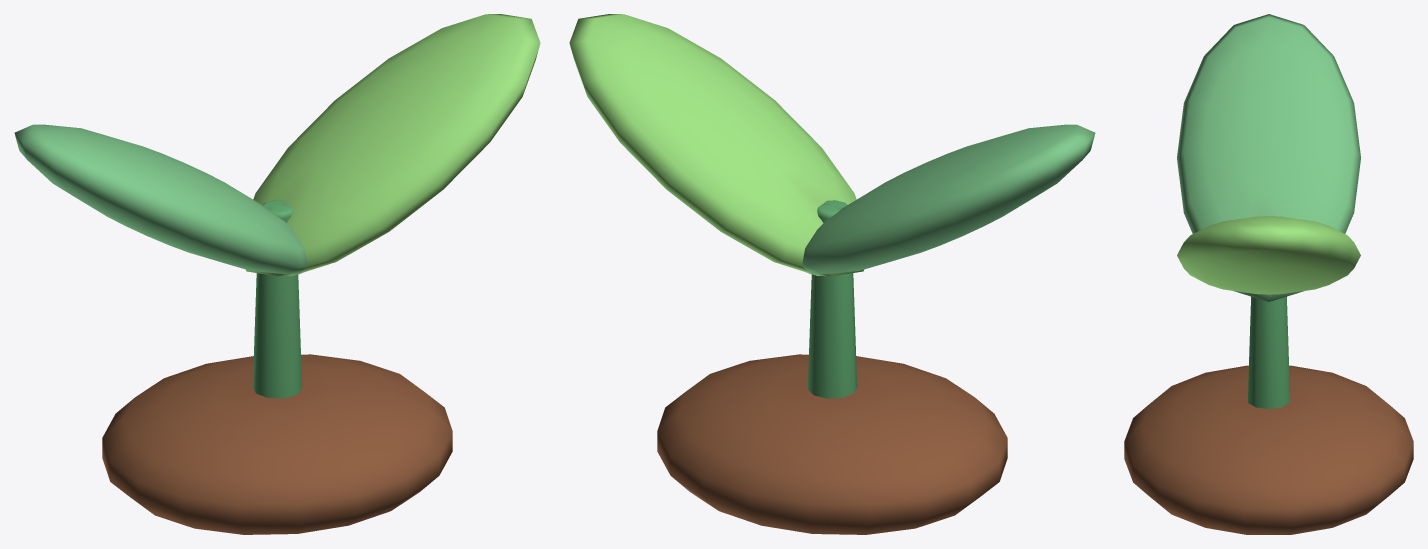
File: sprout.glb
3 renders of one model, left to right at view 1: azimuth 30°, elevation 25°; view 2: azimuth 150°, elevation 25°; view 3: azimuth 270°, elevation 25°, orthographic. The views are drawn at different scales.
Visible parts, largest first — view 1: soil, leaf_1, leaf_-1, stem; view 2: soil, leaf_1, leaf_-1, stem; view 3: soil, leaf_-1, leaf_1, stem.
Boxes of the visible parts, x1,y1,x2,y2 form: soil: (102,354,452,534); leaf_1: (246,14,540,276); leaf_-1: (14,124,307,274); stem: (252,200,302,398); soil: (657,354,1007,534); leaf_1: (569,14,863,276); leaf_-1: (802,124,1095,274); stem: (807,200,857,398); soil: (1124,365,1413,534); leaf_-1: (1177,14,1360,301); leaf_1: (1177,216,1360,294); stem: (1247,296,1290,408).
Bounding box in the file's own units: 1.09 × 0.8763 × 0.6027.
